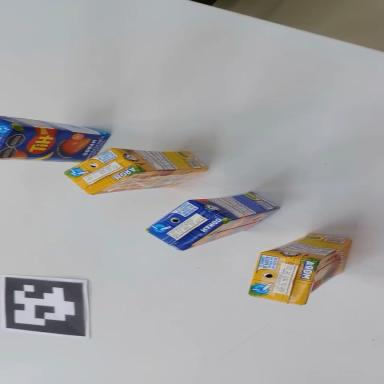HIT-MANGO: (143, 174, 283, 259), (0, 116, 110, 172)
HIT-MORA: (249, 226, 352, 311), (63, 138, 209, 197)
cara_F: (0, 124, 110, 172), (291, 236, 363, 304), (180, 205, 282, 250), (90, 165, 208, 195)
